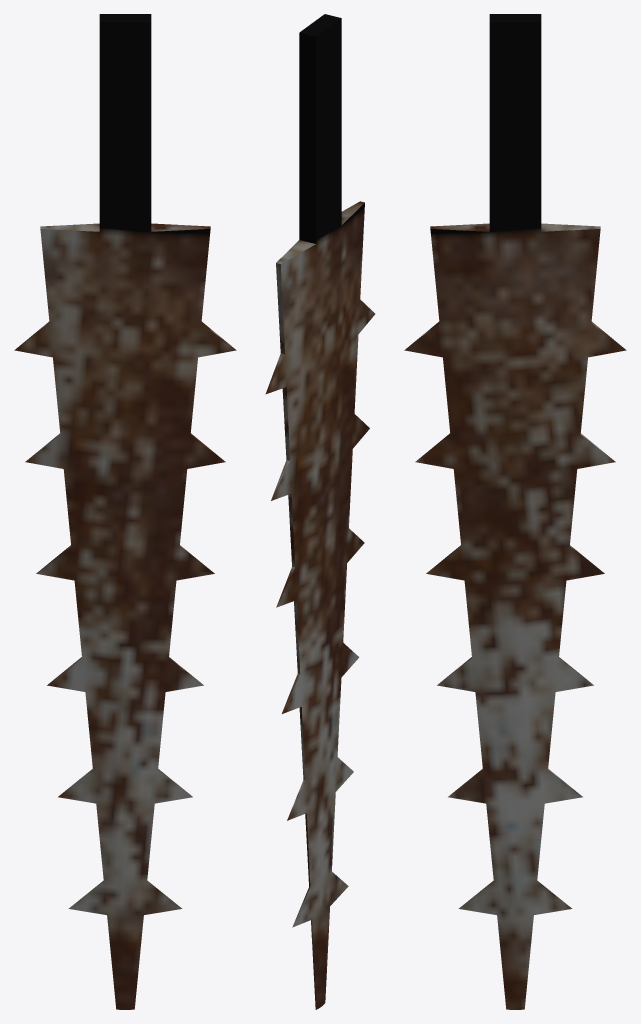
Rendered from RotatingBlade.fbx.
3 renders of one model, left to right at view 1: azimuth 90°, elevation 25°; view 2: azimuth 150°, elevation 25°; view 3: azimuth 270°, elevation 25°, orthographic.
Parts seen in each view (by area): view 1: Cube; view 2: Cube; view 3: Cube.
Part boxes in pixels (x1,y1,x2,y2): Cube: (14,14,236,1009); Cube: (265,14,375,1009); Cube: (404,14,626,1009).
Bounding box in the file's own units: 10.84 × 600 × 122.
